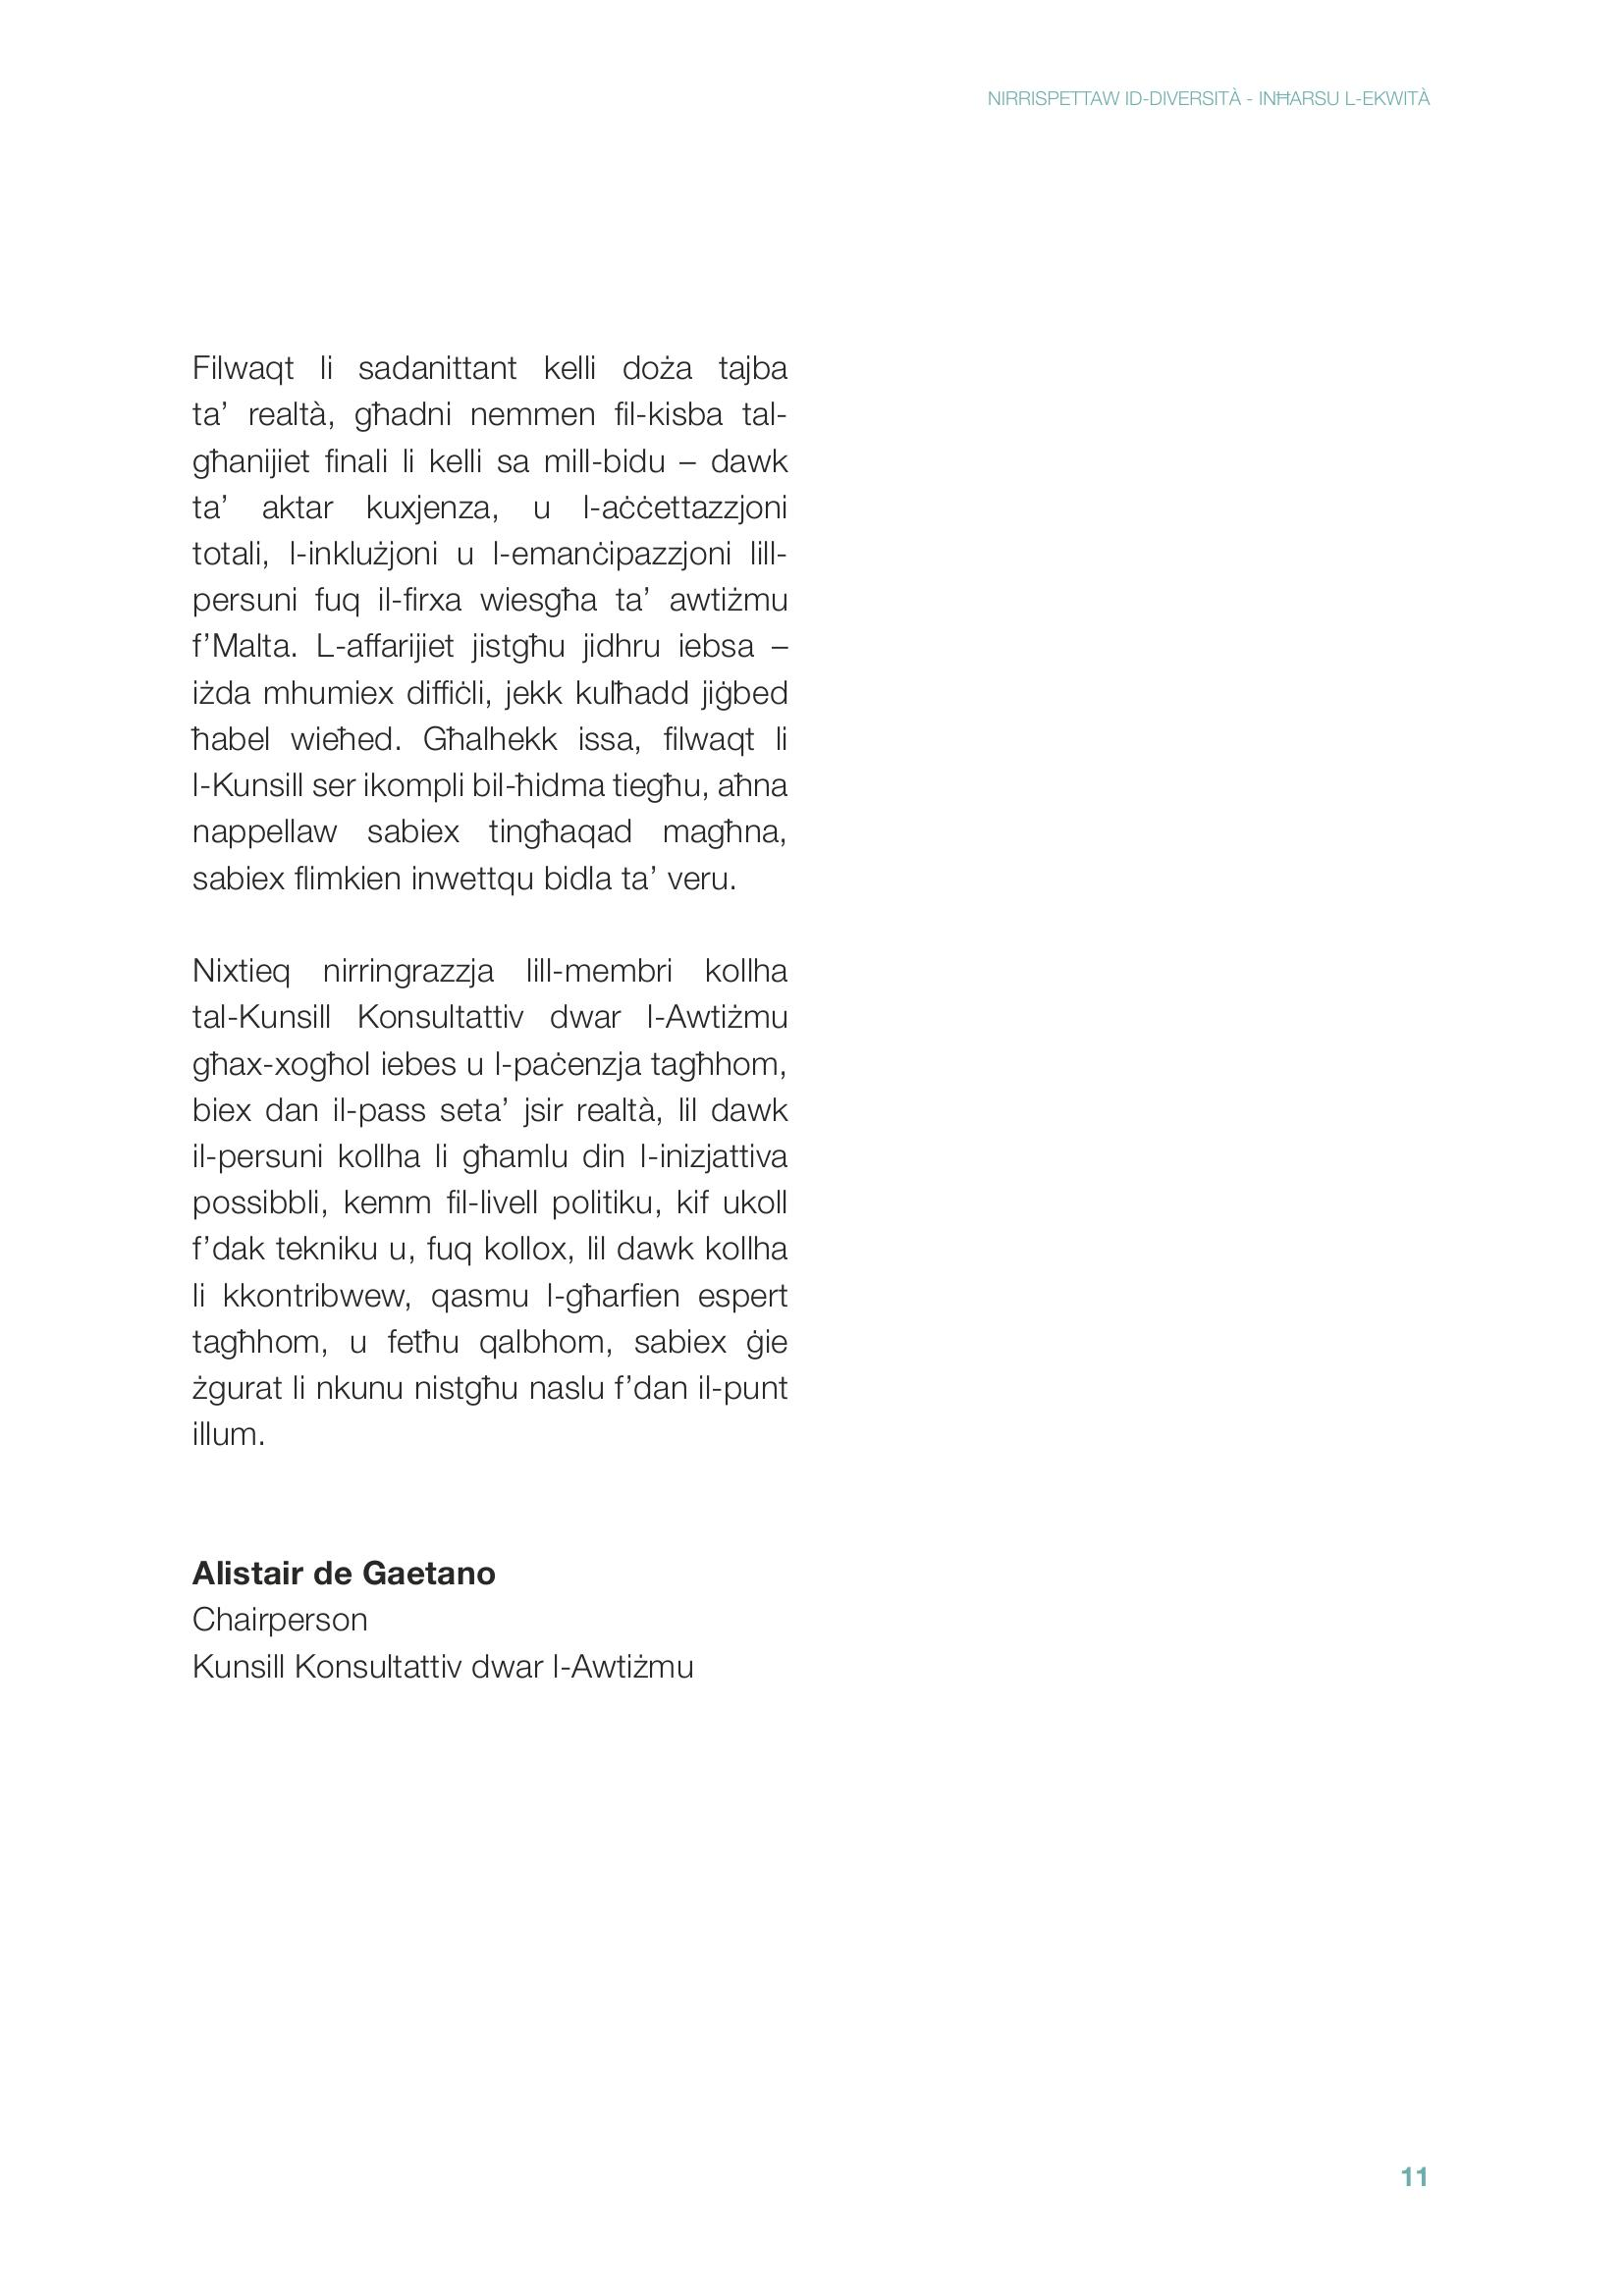text: (170, 330, 801, 1713)
